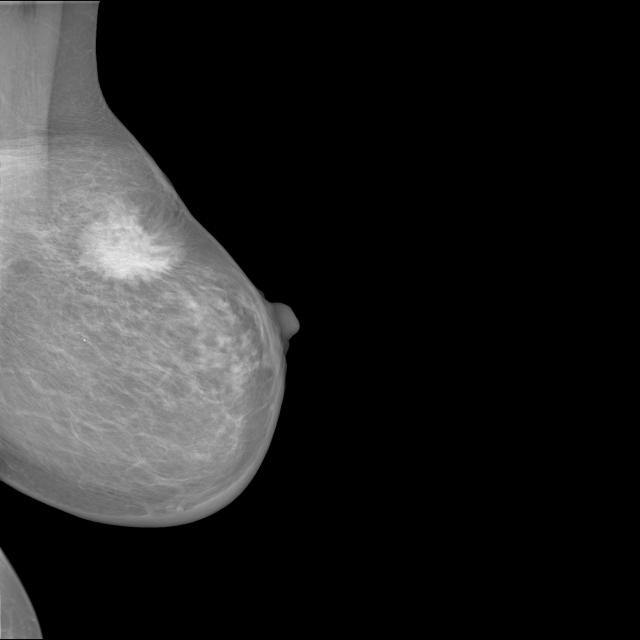Mass_1: (48, 182, 207, 310)
